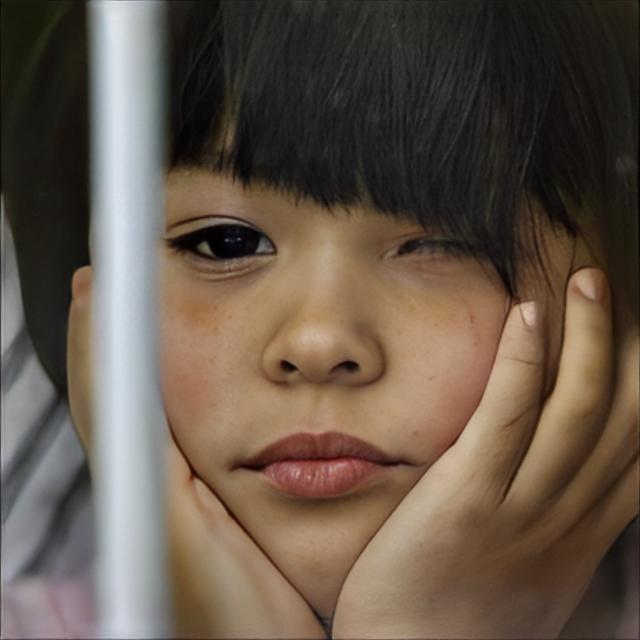sad: (165, 104, 630, 640)
